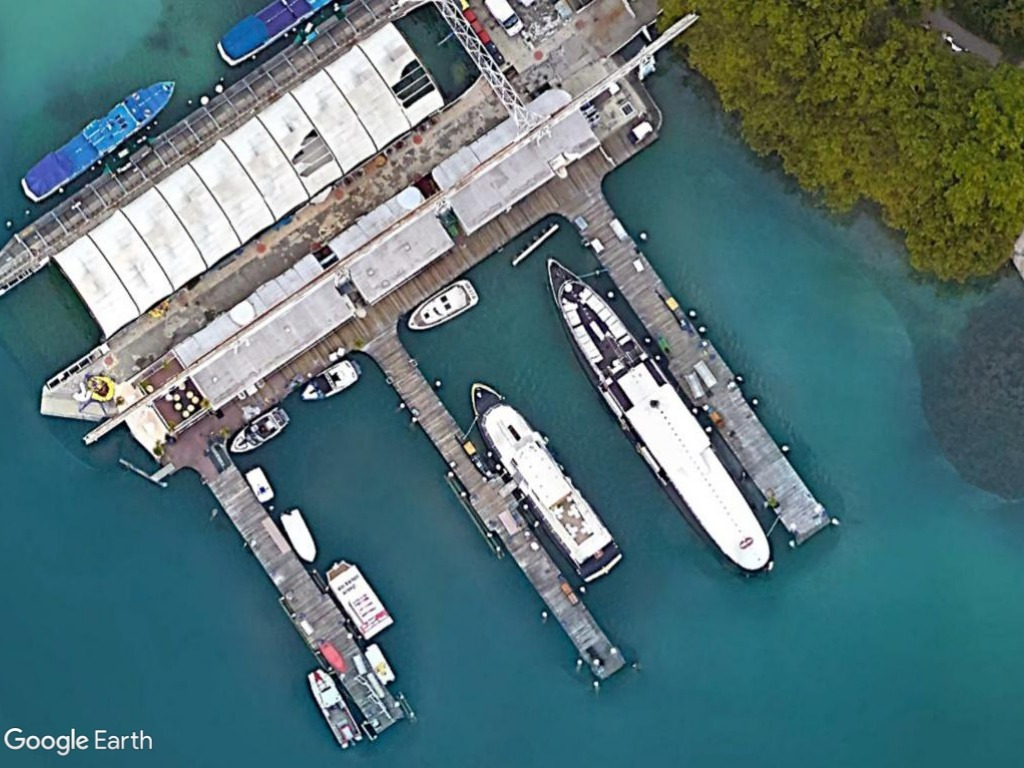boat: (544, 252, 777, 577), (467, 378, 625, 587), (15, 71, 179, 206), (303, 662, 364, 752), (404, 272, 482, 337), (227, 400, 291, 456), (298, 355, 362, 406), (274, 504, 320, 565)
